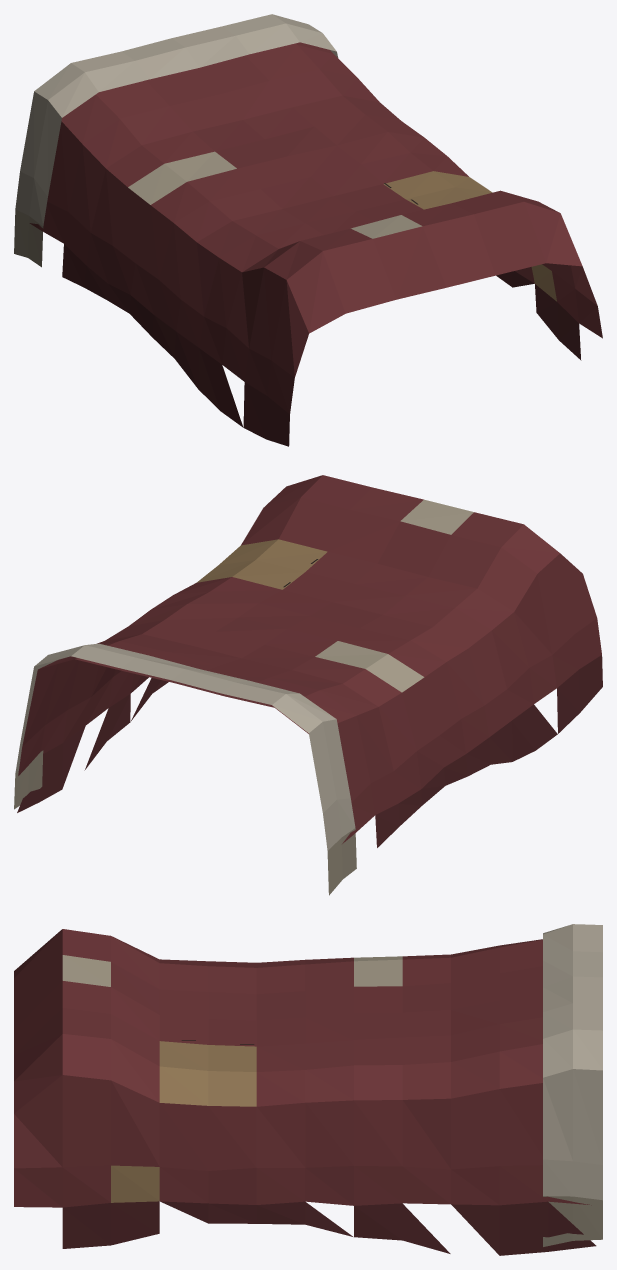
Rendered from tl_prop_bed_cover_v01.glb.
The picture shows the model from 3 angles, top to bottom: view 1: azimuth 30°, elevation 25°; view 2: azimuth 150°, elevation 25°; view 3: azimuth 270°, elevation 25°; orthographic projection. The views are drawn at different scales.
Parts seen in each view (by area): view 1: tl_prop_bed_cover_v01; view 2: tl_prop_bed_cover_v01; view 3: tl_prop_bed_cover_v01.
Boxes of the visible parts, x1,y1,x2,y2 form: tl_prop_bed_cover_v01: (14, 14, 602, 446); tl_prop_bed_cover_v01: (14, 475, 602, 895); tl_prop_bed_cover_v01: (14, 924, 602, 1255).
Size of the model in its own units: 0.9477 by 0.5278 by 1.42.
